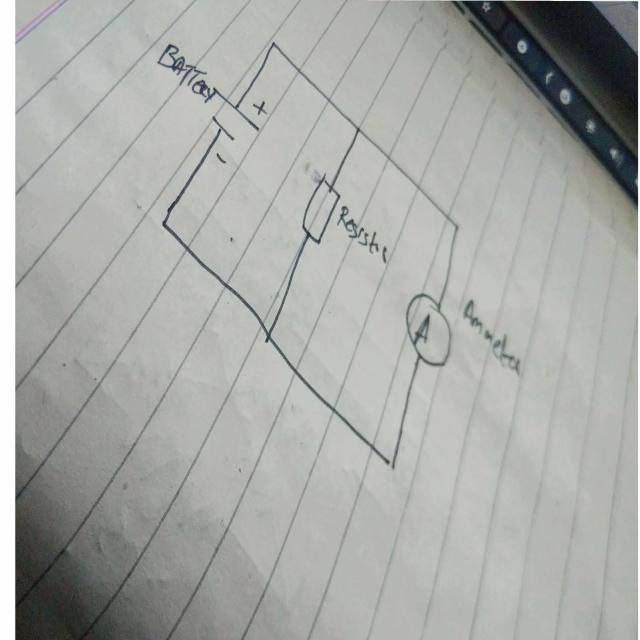junction: (155, 214, 174, 233), (261, 329, 276, 345), (383, 457, 398, 473), (266, 36, 280, 52), (351, 122, 365, 138), (449, 220, 463, 236)
resistor: (299, 172, 342, 245)
source: (208, 83, 270, 165)
text: (460, 296, 522, 378), (158, 41, 216, 103), (337, 203, 389, 266)
